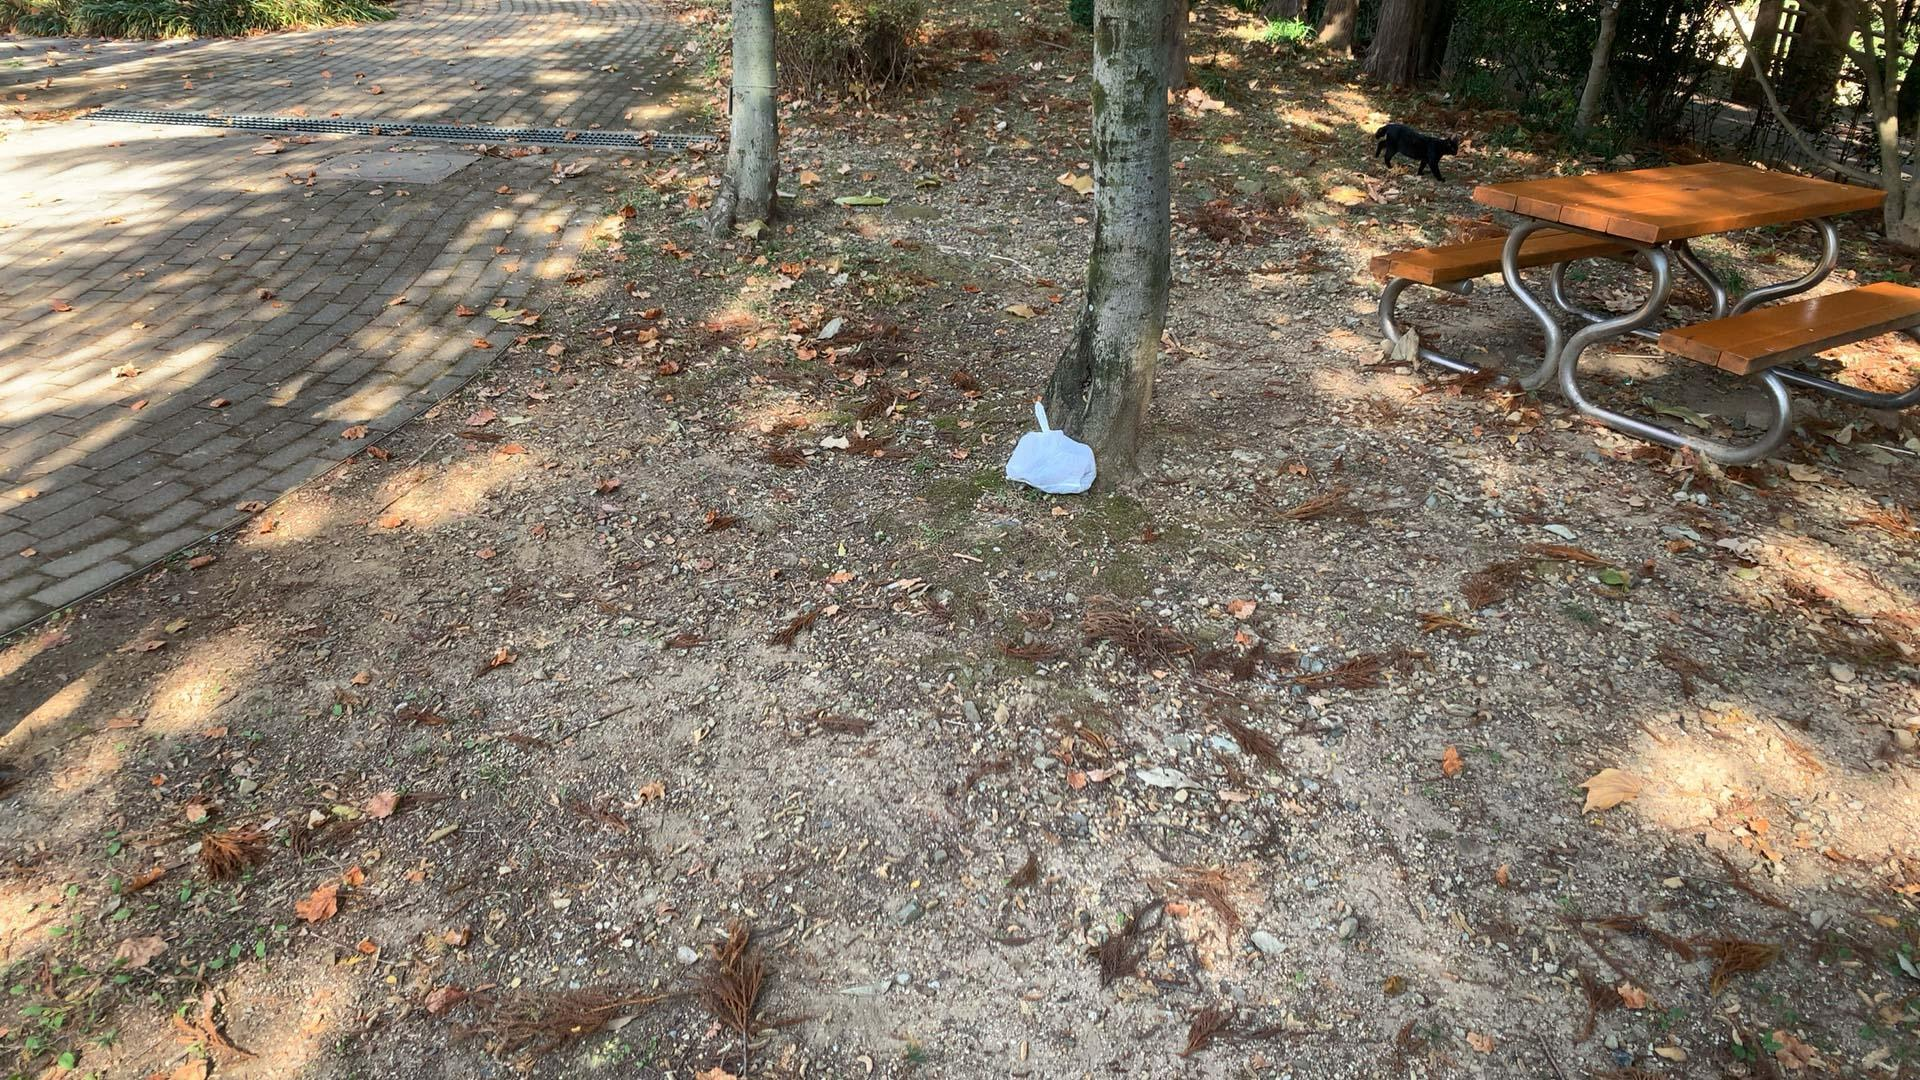white_bag: (993, 396, 1101, 498)
